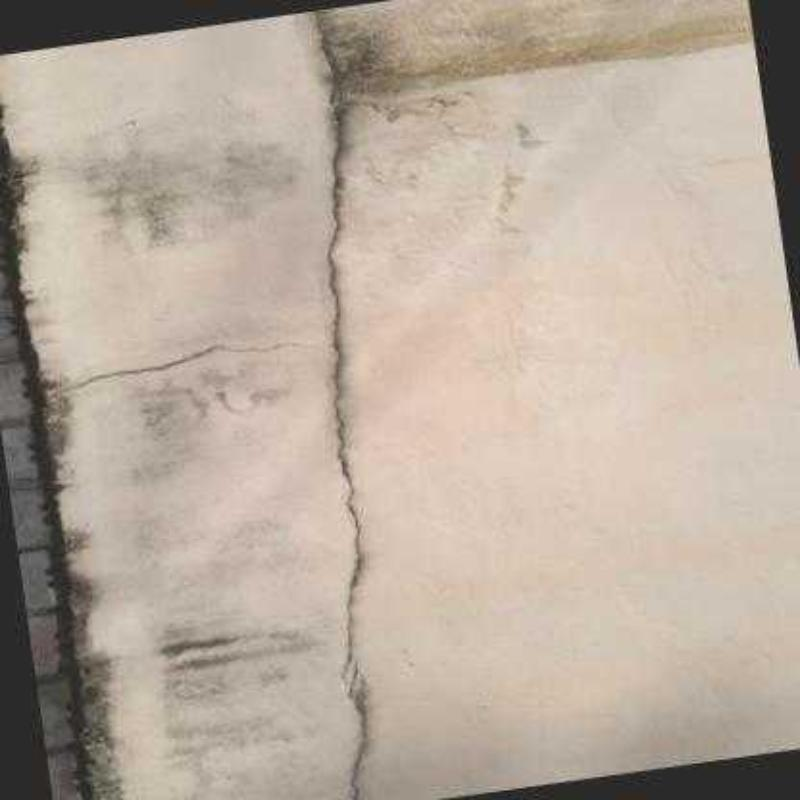pothole: (304, 8, 366, 676), (48, 341, 316, 395), (346, 672, 368, 798)
